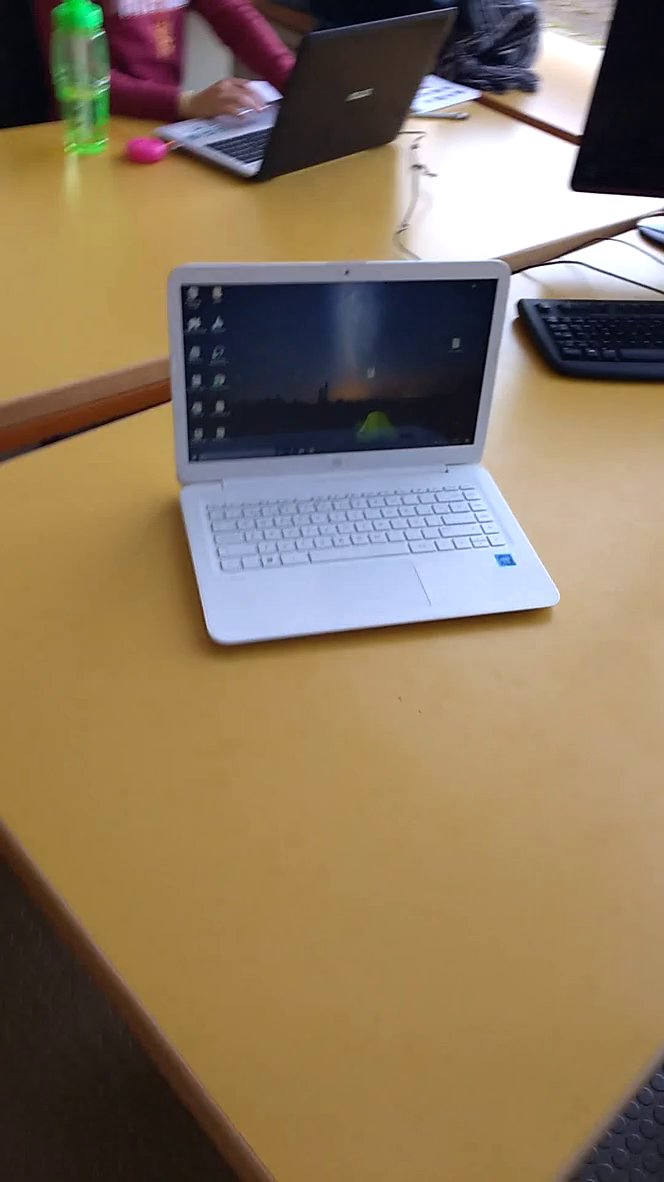laptop: (146, 241, 570, 657)
